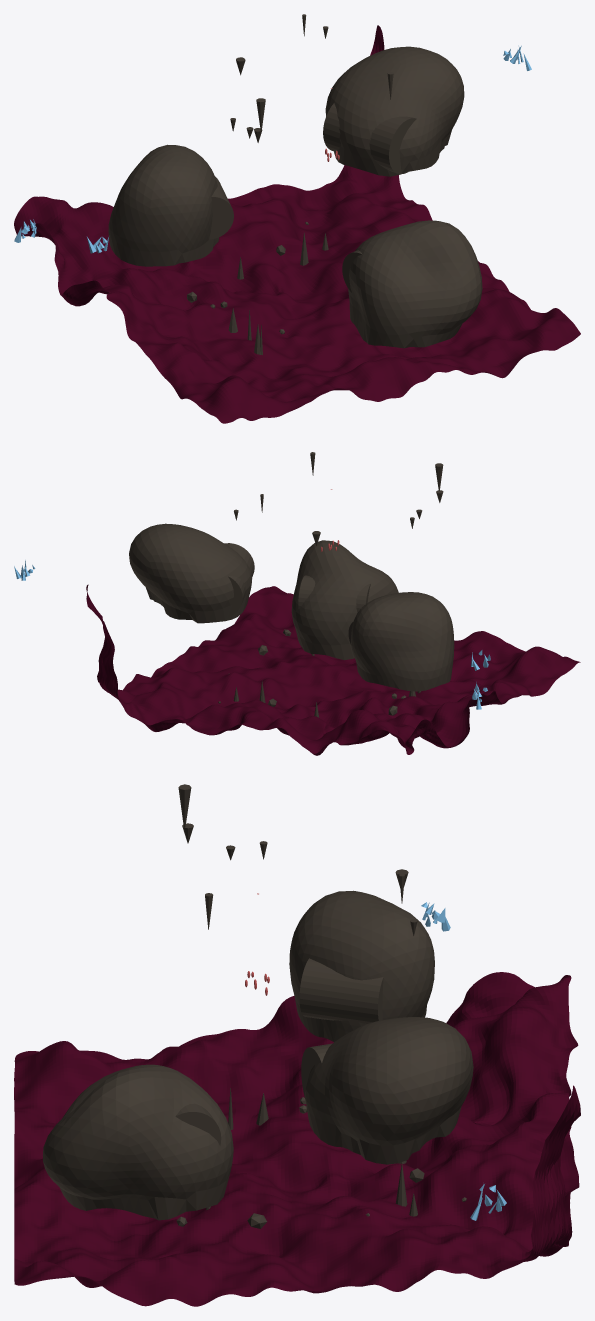
The model's file is cave.fbx.
3 views of the same model, one above another, from view 1: azimuth 30°, elevation 25°; view 2: azimuth 150°, elevation 25°; view 3: azimuth 270°, elevation 25° (orthographic). The views are drawn at different scales.
Visible parts, largest first — view 1: UndulatingTerrain, LowerChamber, SideChamber1, SideChamber2, MainToSide1Tunnel, MainToSide2Tunnel; view 2: UndulatingTerrain, SideChamber1, SideChamber2, LowerChamber, MainToSide1Tunnel, MainToLowerTunnel; view 3: UndulatingTerrain, LowerChamber, SideChamber1, SideChamber2, MainToSide2Tunnel, MainToLowerTunnel.
Boxes of the visible parts, left/top/right/bottom form: UndulatingTerrain: left=14, top=25, right=580, bottom=423; LowerChamber: left=348, top=220, right=482, bottom=348; SideChamber1: left=325, top=46, right=464, bottom=176; SideChamber2: left=108, top=144, right=218, bottom=266; MainToSide1Tunnel: left=323, top=103, right=416, bottom=174; MainToSide2Tunnel: left=209, top=176, right=233, bottom=239; UndulatingTerrain: left=86, top=584, right=580, bottom=755; SideChamber1: left=129, top=523, right=252, bottom=623; SideChamber2: left=351, top=592, right=454, bottom=691; LowerChamber: left=291, top=540, right=398, bottom=660; MainToSide1Tunnel: left=224, top=543, right=254, bottom=617; MainToLowerTunnel: left=298, top=575, right=370, bottom=612; UndulatingTerrain: left=14, top=972, right=580, bottom=1306; LowerChamber: left=42, top=1064, right=233, bottom=1220; SideChamber1: left=305, top=1017, right=473, bottom=1164; SideChamber2: left=289, top=890, right=434, bottom=1041; MainToSide2Tunnel: left=299, top=958, right=383, bottom=1023; MainToLowerTunnel: left=175, top=1103, right=221, bottom=1145.
Bounding box in the file's own units: 1695 × 843 × 1190.
